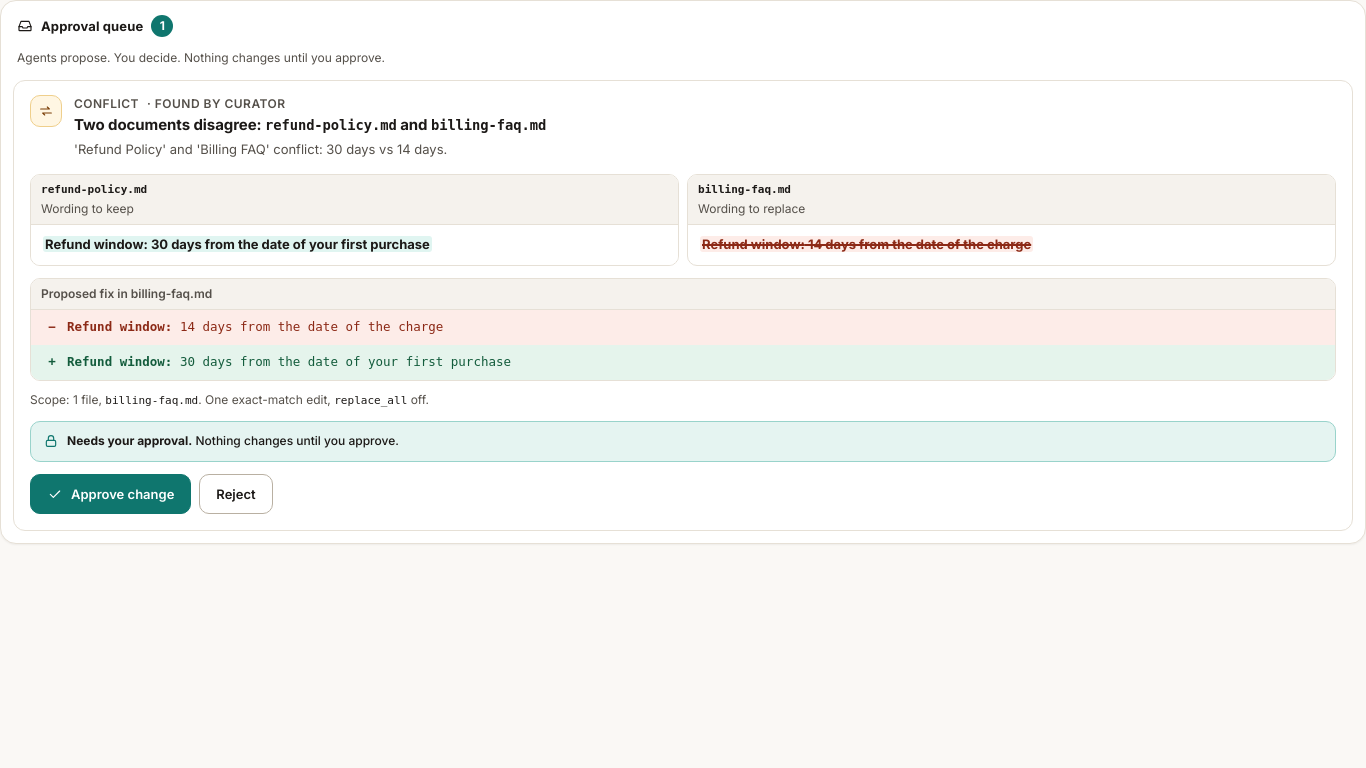
Test: approval decisions › treats 409 (already decided) as an idempotent success
This screenshot has width=1366, height=768.
Step 1. Click the button "Approve change" → (111,494), box [30,474,191,514]
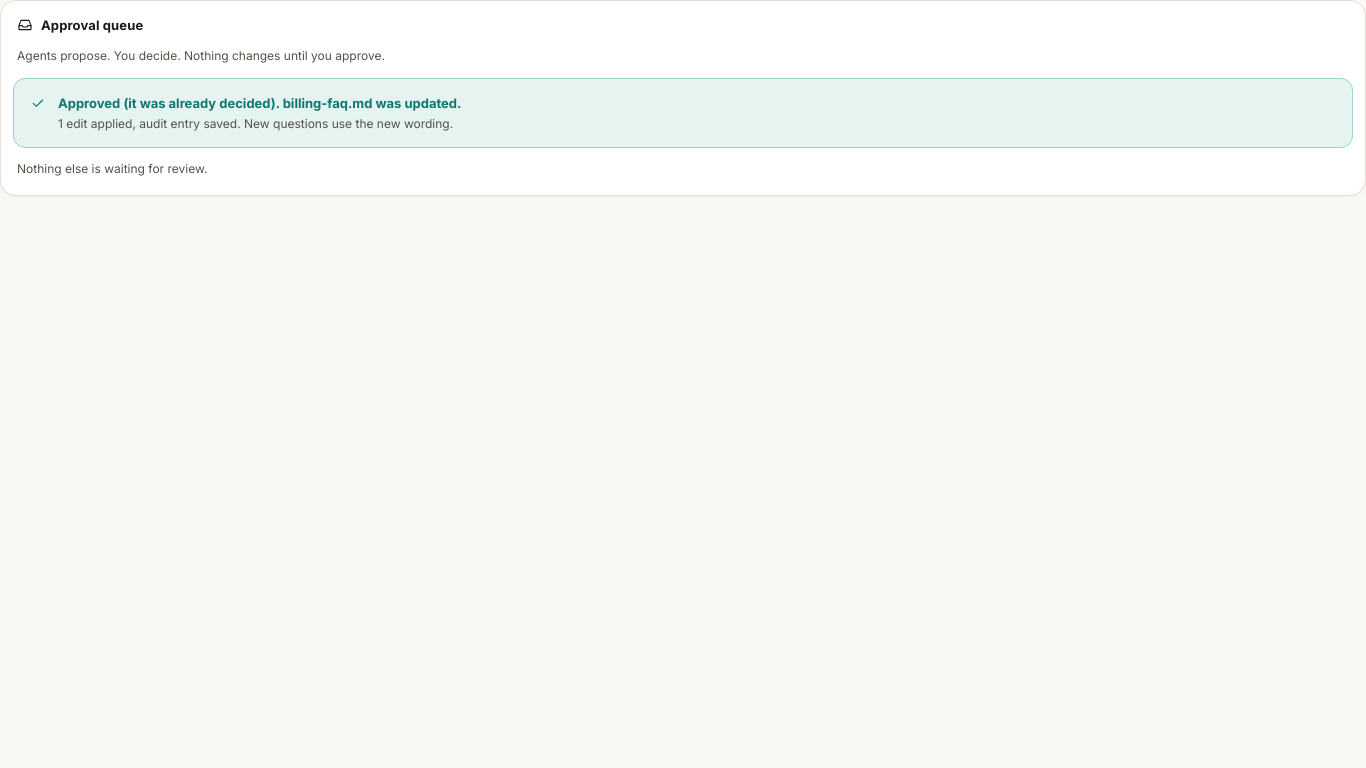
Expected: the text "already decided" is shown, [58,95,461,111]
